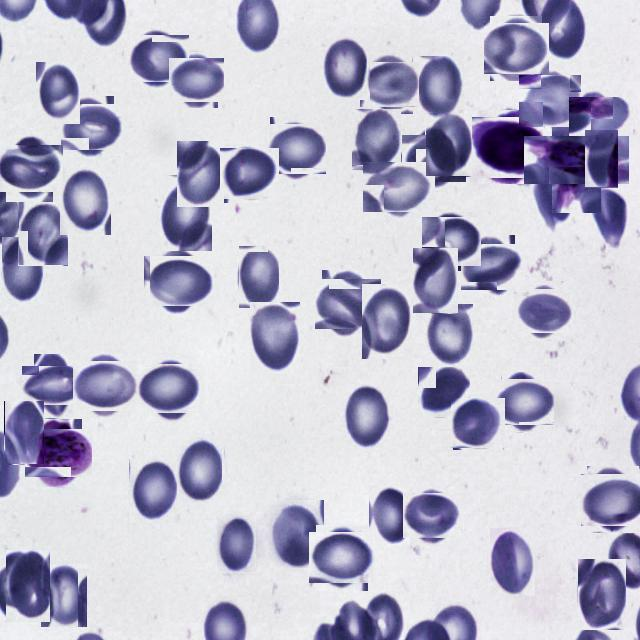difficult: (538, 122, 615, 199)
leukocyte: (475, 114, 542, 180)
red blood cell: (160, 175, 212, 251), (362, 284, 412, 359), (368, 156, 429, 217), (148, 250, 210, 310), (270, 500, 324, 568), (250, 302, 300, 375), (313, 528, 372, 588), (341, 384, 393, 452), (59, 168, 111, 236), (488, 19, 546, 78), (583, 470, 640, 530), (578, 559, 626, 630), (142, 360, 200, 418), (318, 274, 376, 332), (76, 356, 134, 414), (522, 72, 580, 130), (534, 140, 573, 226), (176, 437, 225, 504), (129, 459, 180, 523), (1, 140, 58, 197), (18, 202, 68, 266), (177, 141, 225, 207), (6, 550, 50, 622), (320, 37, 370, 100), (267, 120, 323, 176), (406, 131, 462, 187), (351, 109, 401, 171), (222, 146, 278, 201), (490, 528, 535, 596), (415, 56, 464, 118), (412, 248, 458, 314), (130, 31, 185, 86), (464, 240, 520, 294), (574, 92, 628, 148), (426, 304, 473, 368), (40, 564, 87, 628), (425, 113, 472, 177), (425, 214, 479, 268), (64, 100, 118, 154), (369, 485, 415, 545), (407, 489, 459, 542), (364, 58, 416, 111), (2, 237, 43, 304), (36, 62, 80, 124), (518, 285, 570, 337), (498, 376, 550, 428), (28, 360, 80, 412), (452, 397, 504, 449), (418, 367, 470, 418), (238, 246, 279, 309), (4, 401, 44, 465), (590, 182, 628, 248), (171, 54, 221, 104), (216, 516, 256, 573), (584, 130, 618, 188)
schizont: (29, 424, 87, 482)
